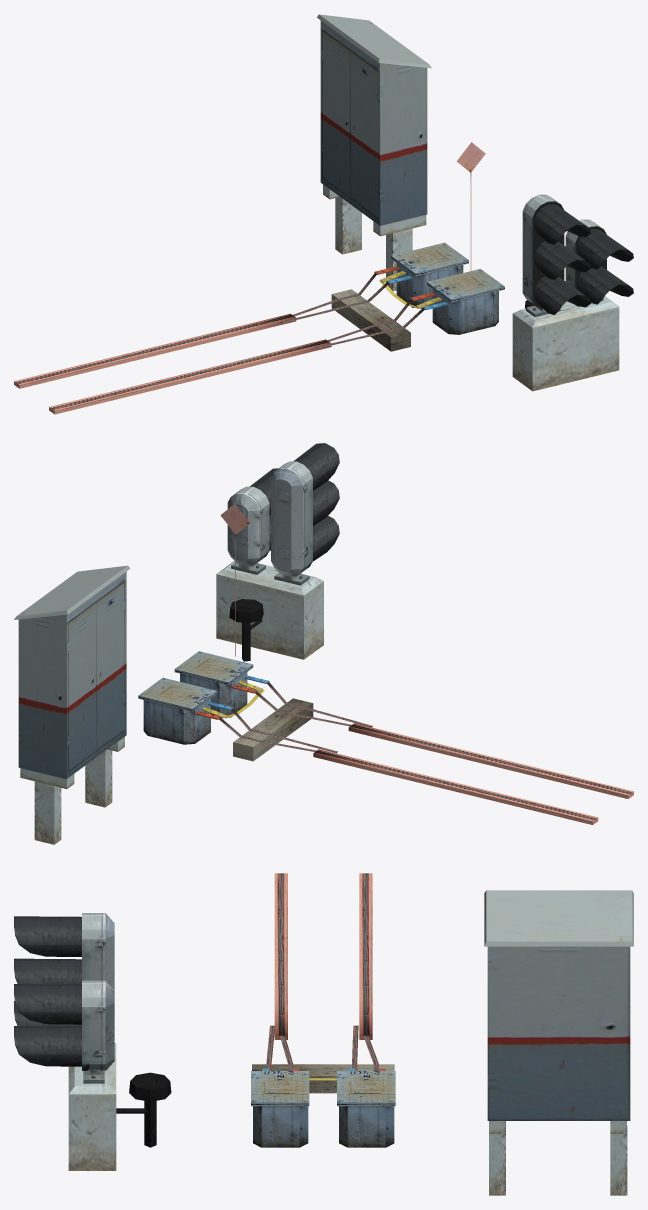
File: sig_k4.gltf
3 views of the same model, one above another, from view 1: azimuth 30°, elevation 25°; view 2: azimuth 150°, elevation 25°; view 3: azimuth 270°, elevation 25° (orthographic). The views are drawn at different scales.
Bounding box in the file's own units: 4.35 × 2.06 × 4.05.
Materials: 1 (1 with a texture image).
